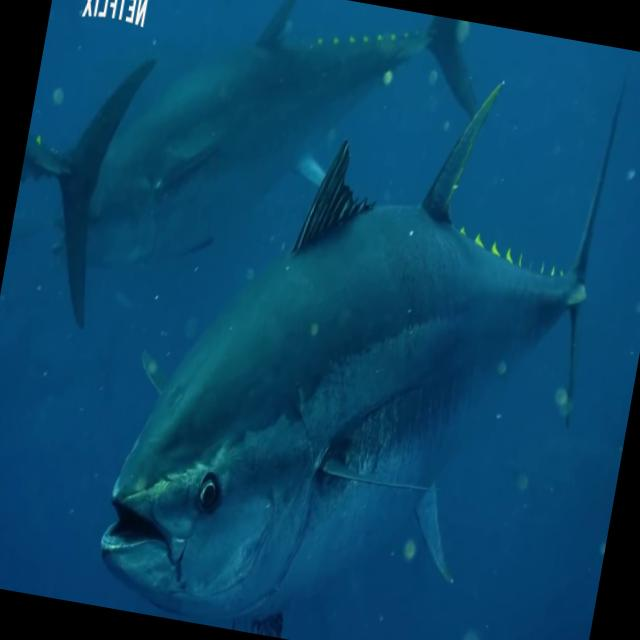fish: (80, 0, 638, 640), (71, 0, 497, 324), (0, 27, 169, 346)
